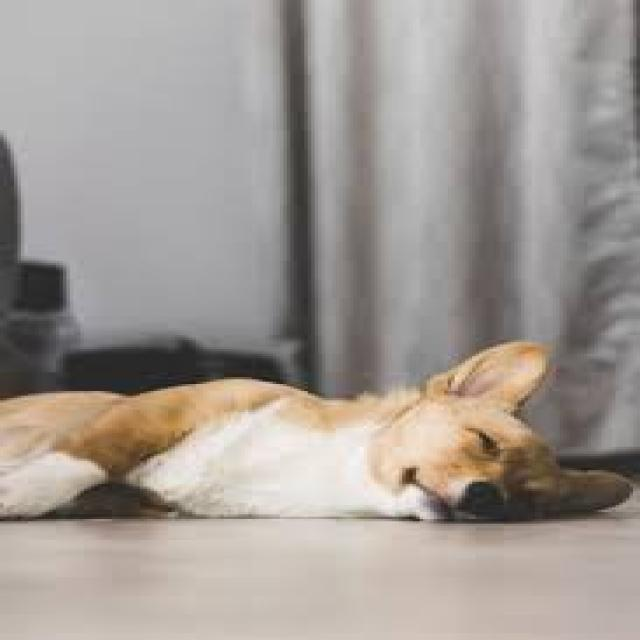CORGI: (0, 328, 640, 534)
